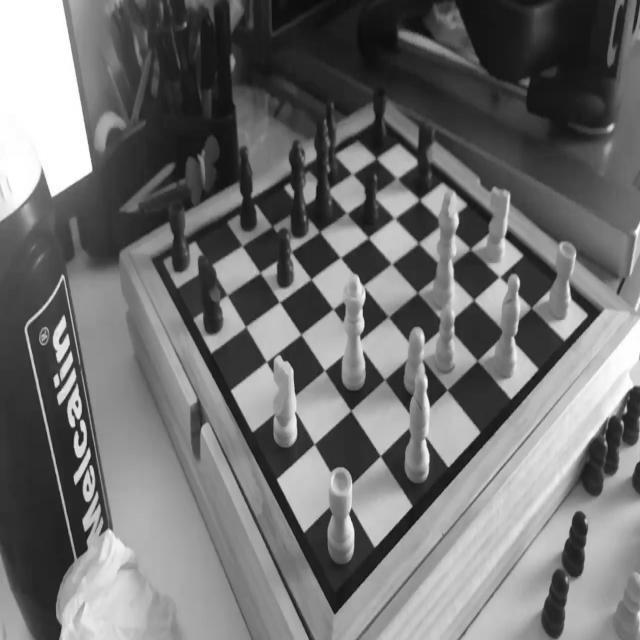chess-table-corners: (592, 294, 610, 322), (146, 246, 162, 272), (371, 110, 389, 131)
